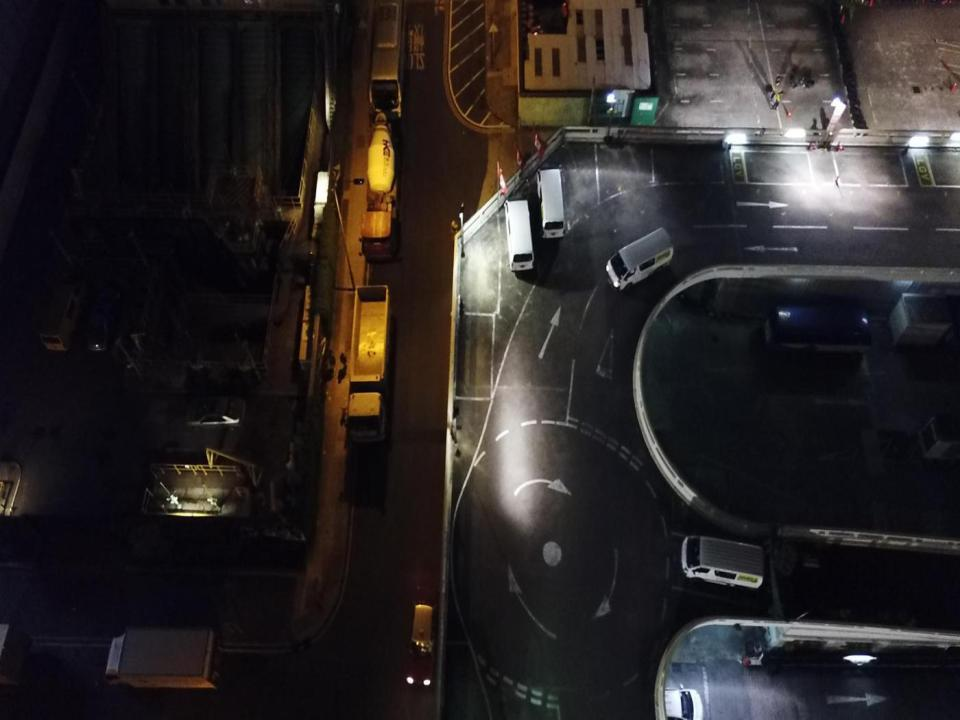bus: (765, 309, 870, 365), (367, 0, 403, 115)
car: (406, 594, 438, 688), (638, 688, 703, 719)
truck: (345, 283, 392, 444), (105, 627, 222, 691), (363, 114, 402, 264)
van: (683, 537, 765, 594), (606, 228, 675, 290), (504, 197, 534, 277), (537, 166, 565, 241)
